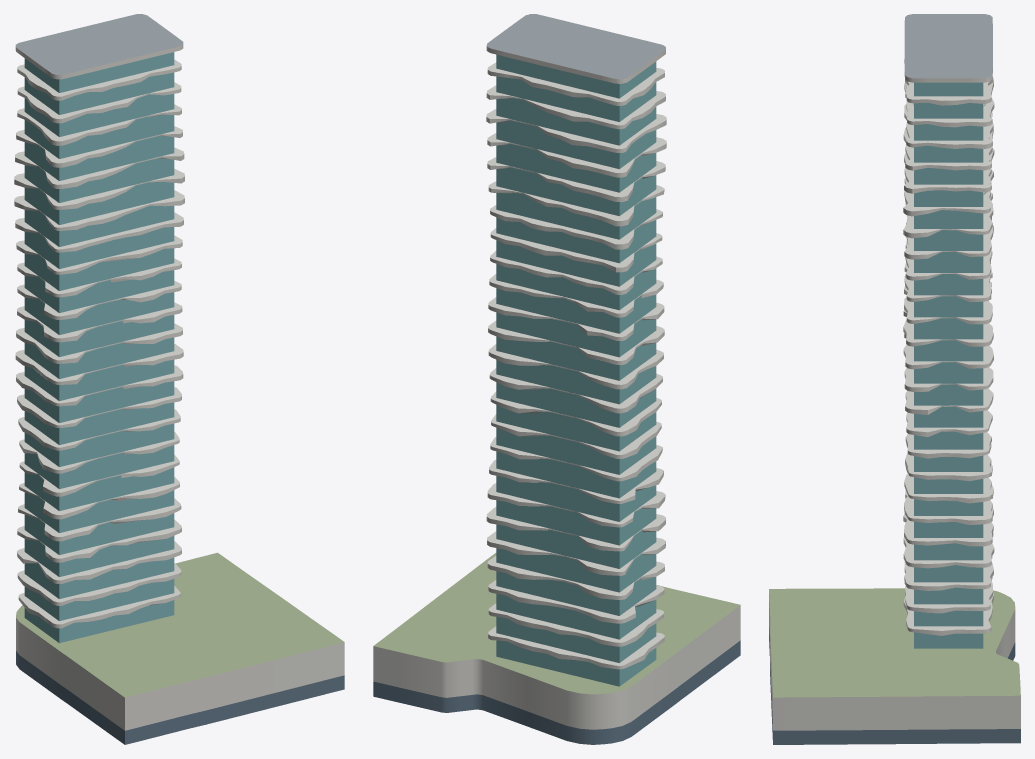
The model's file is chi-aqua.glb.
3 renders of one model, left to right at view 1: azimuth 30°, elevation 25°; view 2: azimuth 150°, elevation 25°; view 3: azimuth 270°, elevation 25°, orthographic. The views are drawn at different scales.
Visible parts, largest first — view 1: Aqua; view 2: Aqua; view 3: Aqua.
Boxes of the visible parts, x1,y1,x2,y2 form: Aqua: [14, 14, 344, 744]; Aqua: [373, 14, 740, 744]; Aqua: [769, 14, 1020, 744].
Bounding box in the file's own units: 99.48 × 262 × 96.2.
